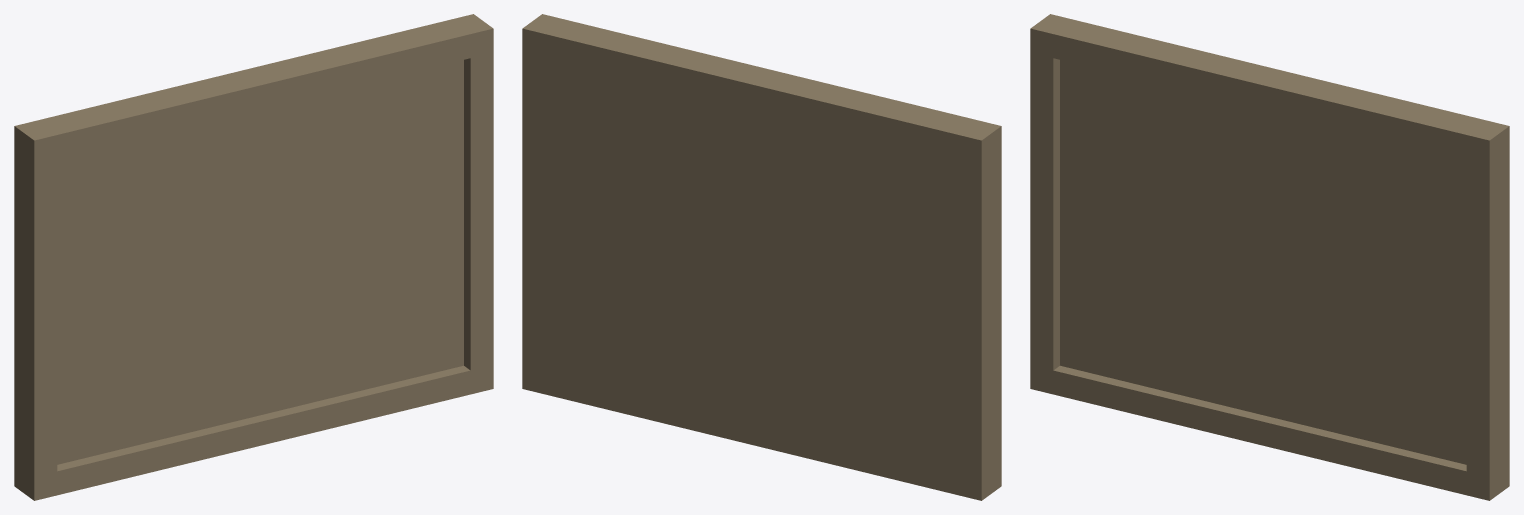
Rendered from picture-frame.glb.
The picture shows the model from 3 angles, left to right: view 1: azimuth 30°, elevation 25°; view 2: azimuth 150°, elevation 25°; view 3: azimuth 330°, elevation 25°; orthographic projection.
Size of the model in its own units: 0.8 by 0.6 by 0.06.
